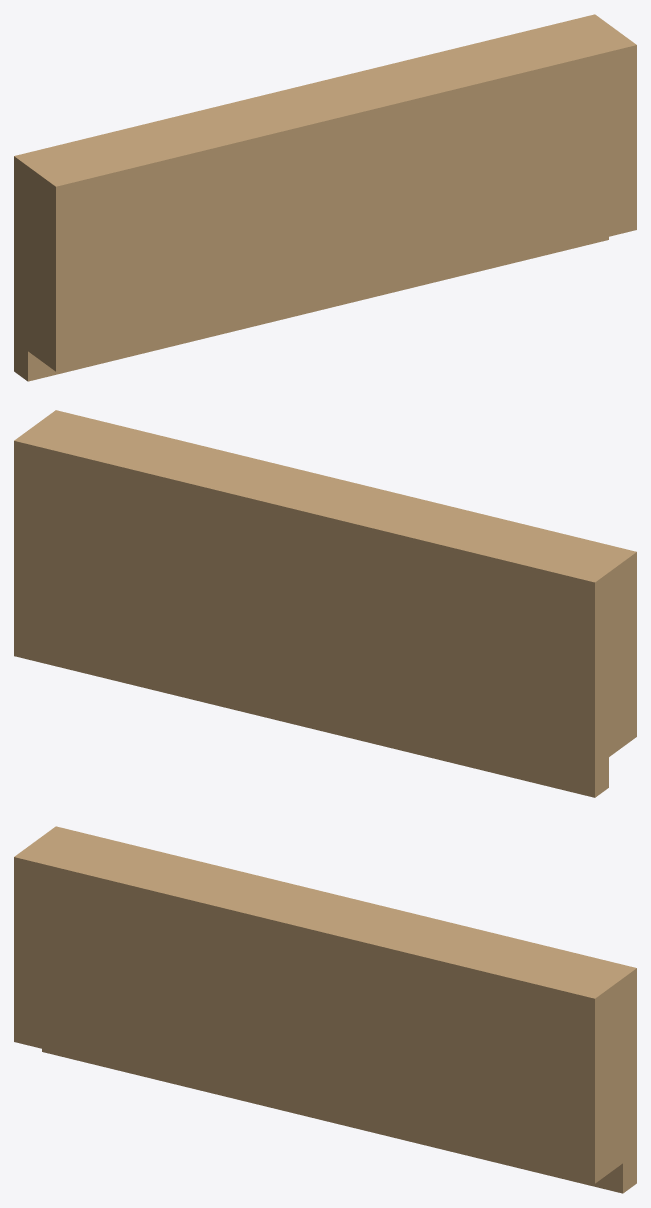
File: prop-rabbet-plane-body-rb1.fbx
3 views of the same model, one above another, from view 1: azimuth 30°, elevation 25°; view 2: azimuth 150°, elevation 25°; view 3: azimuth 330°, elevation 25° (orthographic).
Visible parts, largest first — view 1: prop-rabbet-plane-body-rb1; view 2: prop-rabbet-plane-body-rb1; view 3: prop-rabbet-plane-body-rb1.
Part boxes in pixels (left/top/right/bottom): prop-rabbet-plane-body-rb1: left=14, top=14, right=636, bottom=381; prop-rabbet-plane-body-rb1: left=14, top=410, right=636, bottom=797; prop-rabbet-plane-body-rb1: left=14, top=826, right=636, bottom=1193.
Size of the model in its own units: 0.24 by 0.085 by 0.03.
